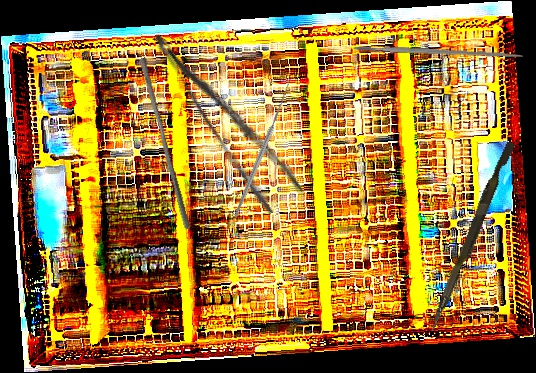Dressing Forceps: (149, 12, 306, 218)
Hook Surgical: (184, 75, 336, 220)
Pusher: (428, 139, 516, 335), (133, 56, 198, 231)
Scalpel Handle: (352, 43, 524, 60)
